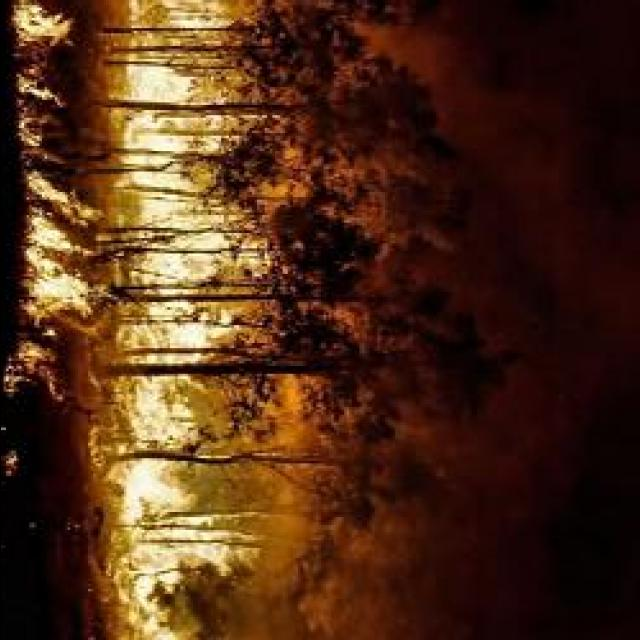fire: (119, 456, 246, 584), (124, 128, 220, 284), (114, 326, 214, 458), (24, 170, 104, 328), (120, 57, 198, 137)
smoke: (256, 522, 418, 632)
